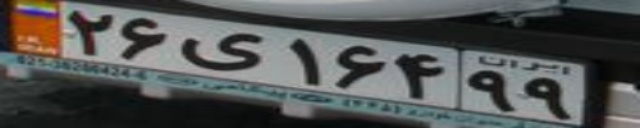1: (287, 38, 322, 86)
2: (66, 11, 111, 56)
4: (392, 51, 444, 100)
6: (331, 44, 385, 89), (115, 16, 169, 58)
9: (521, 76, 572, 120), (464, 69, 512, 112)
ye: (177, 32, 268, 72)
